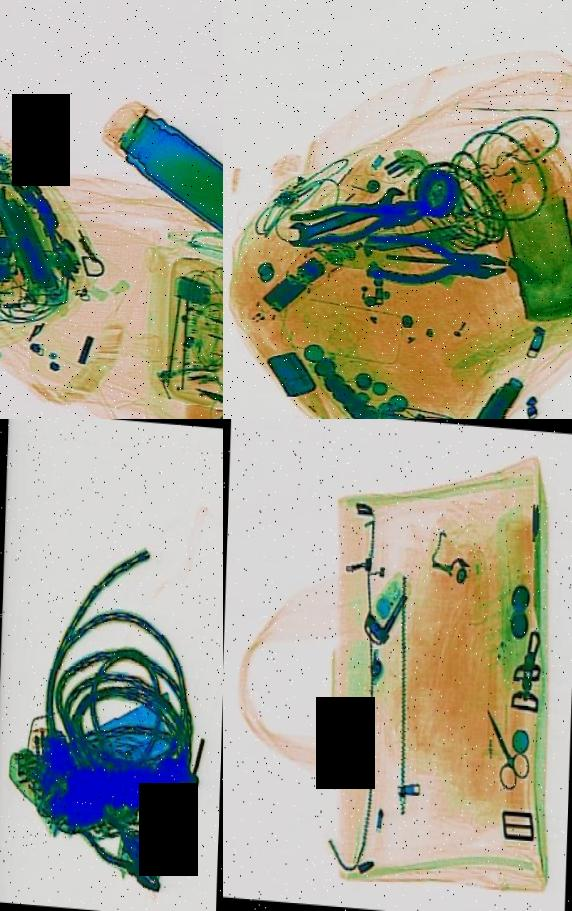Pliers: (284, 178, 426, 258), (77, 792, 166, 908), (362, 230, 506, 290)
Scissors: (469, 694, 534, 793)
Wrench: (283, 174, 404, 251)
